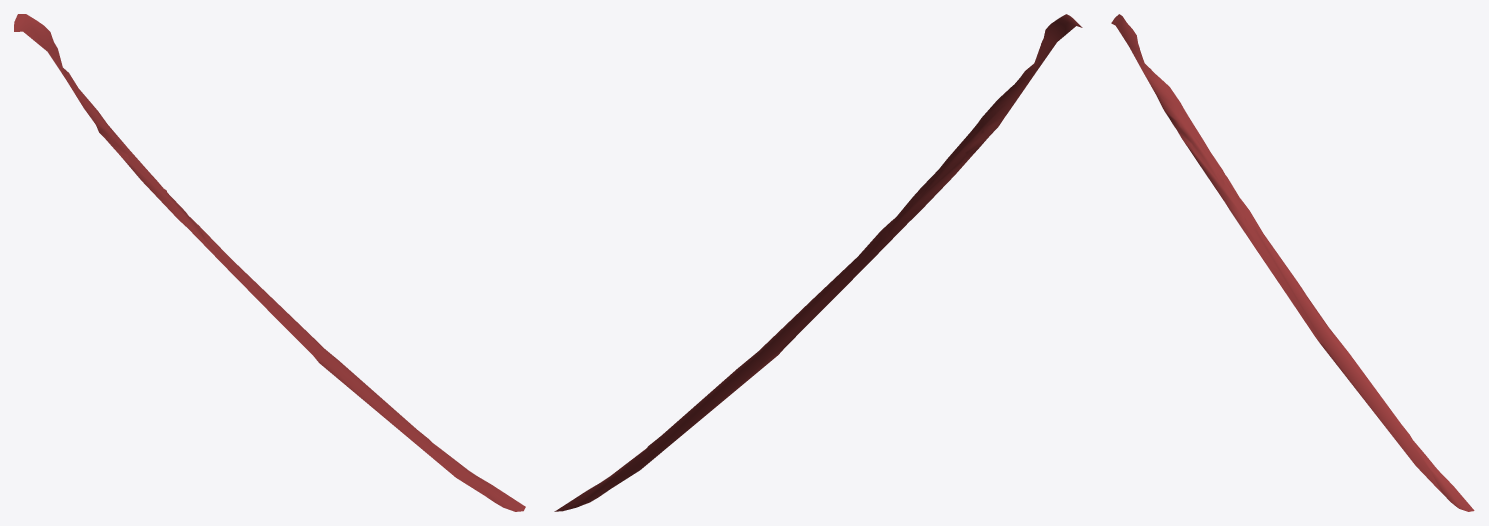
The model's file is external-abdominal-oblique-muscle-o5r.glb.
3 views of the same model, side by side, from view 1: azimuth 30°, elevation 25°; view 2: azimuth 150°, elevation 25°; view 3: azimuth 330°, elevation 25° (orthographic). The views are drawn at different scales.
Parts seen in each view (by area): view 1: External abdominal oblique muscle.o5r; view 2: External abdominal oblique muscle.o5r; view 3: External abdominal oblique muscle.o5r.
Boxes of the visible parts, x1,y1,x2,y2 form: External abdominal oblique muscle.o5r: [14, 14, 525, 511]; External abdominal oblique muscle.o5r: [554, 14, 1082, 511]; External abdominal oblique muscle.o5r: [1111, 14, 1474, 511].
Size of the model in its own units: 0.0689 by 0.0784 by 0.00486.
